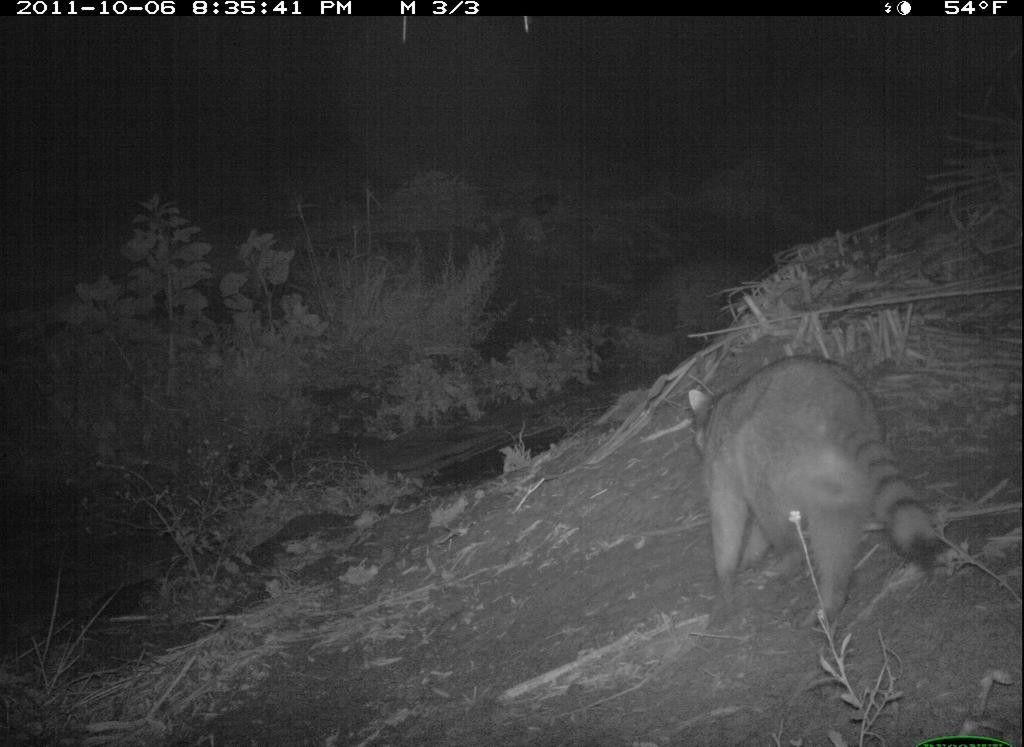raccoon: (665, 349, 969, 624)
